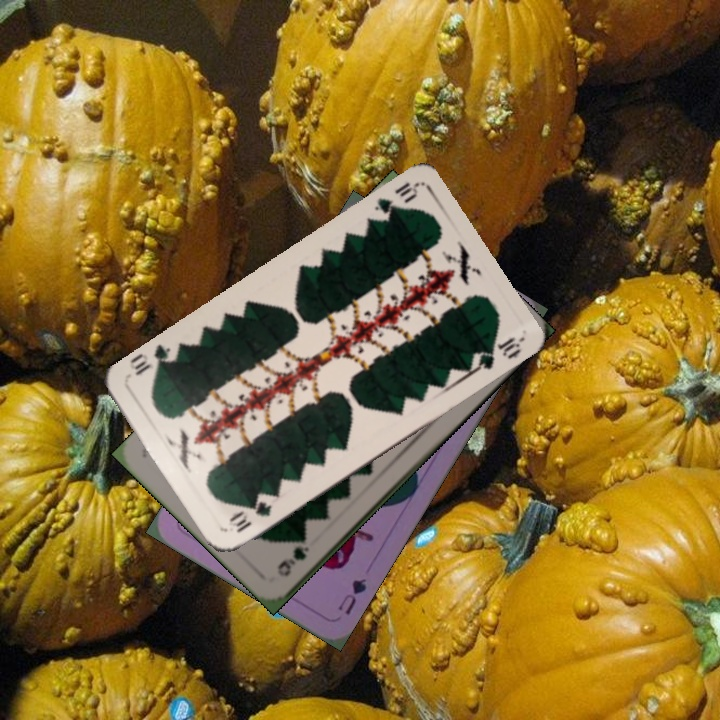G10: (369, 177, 421, 225), (224, 497, 275, 536)
G9: (273, 542, 312, 579)
GU: (334, 574, 369, 618)
